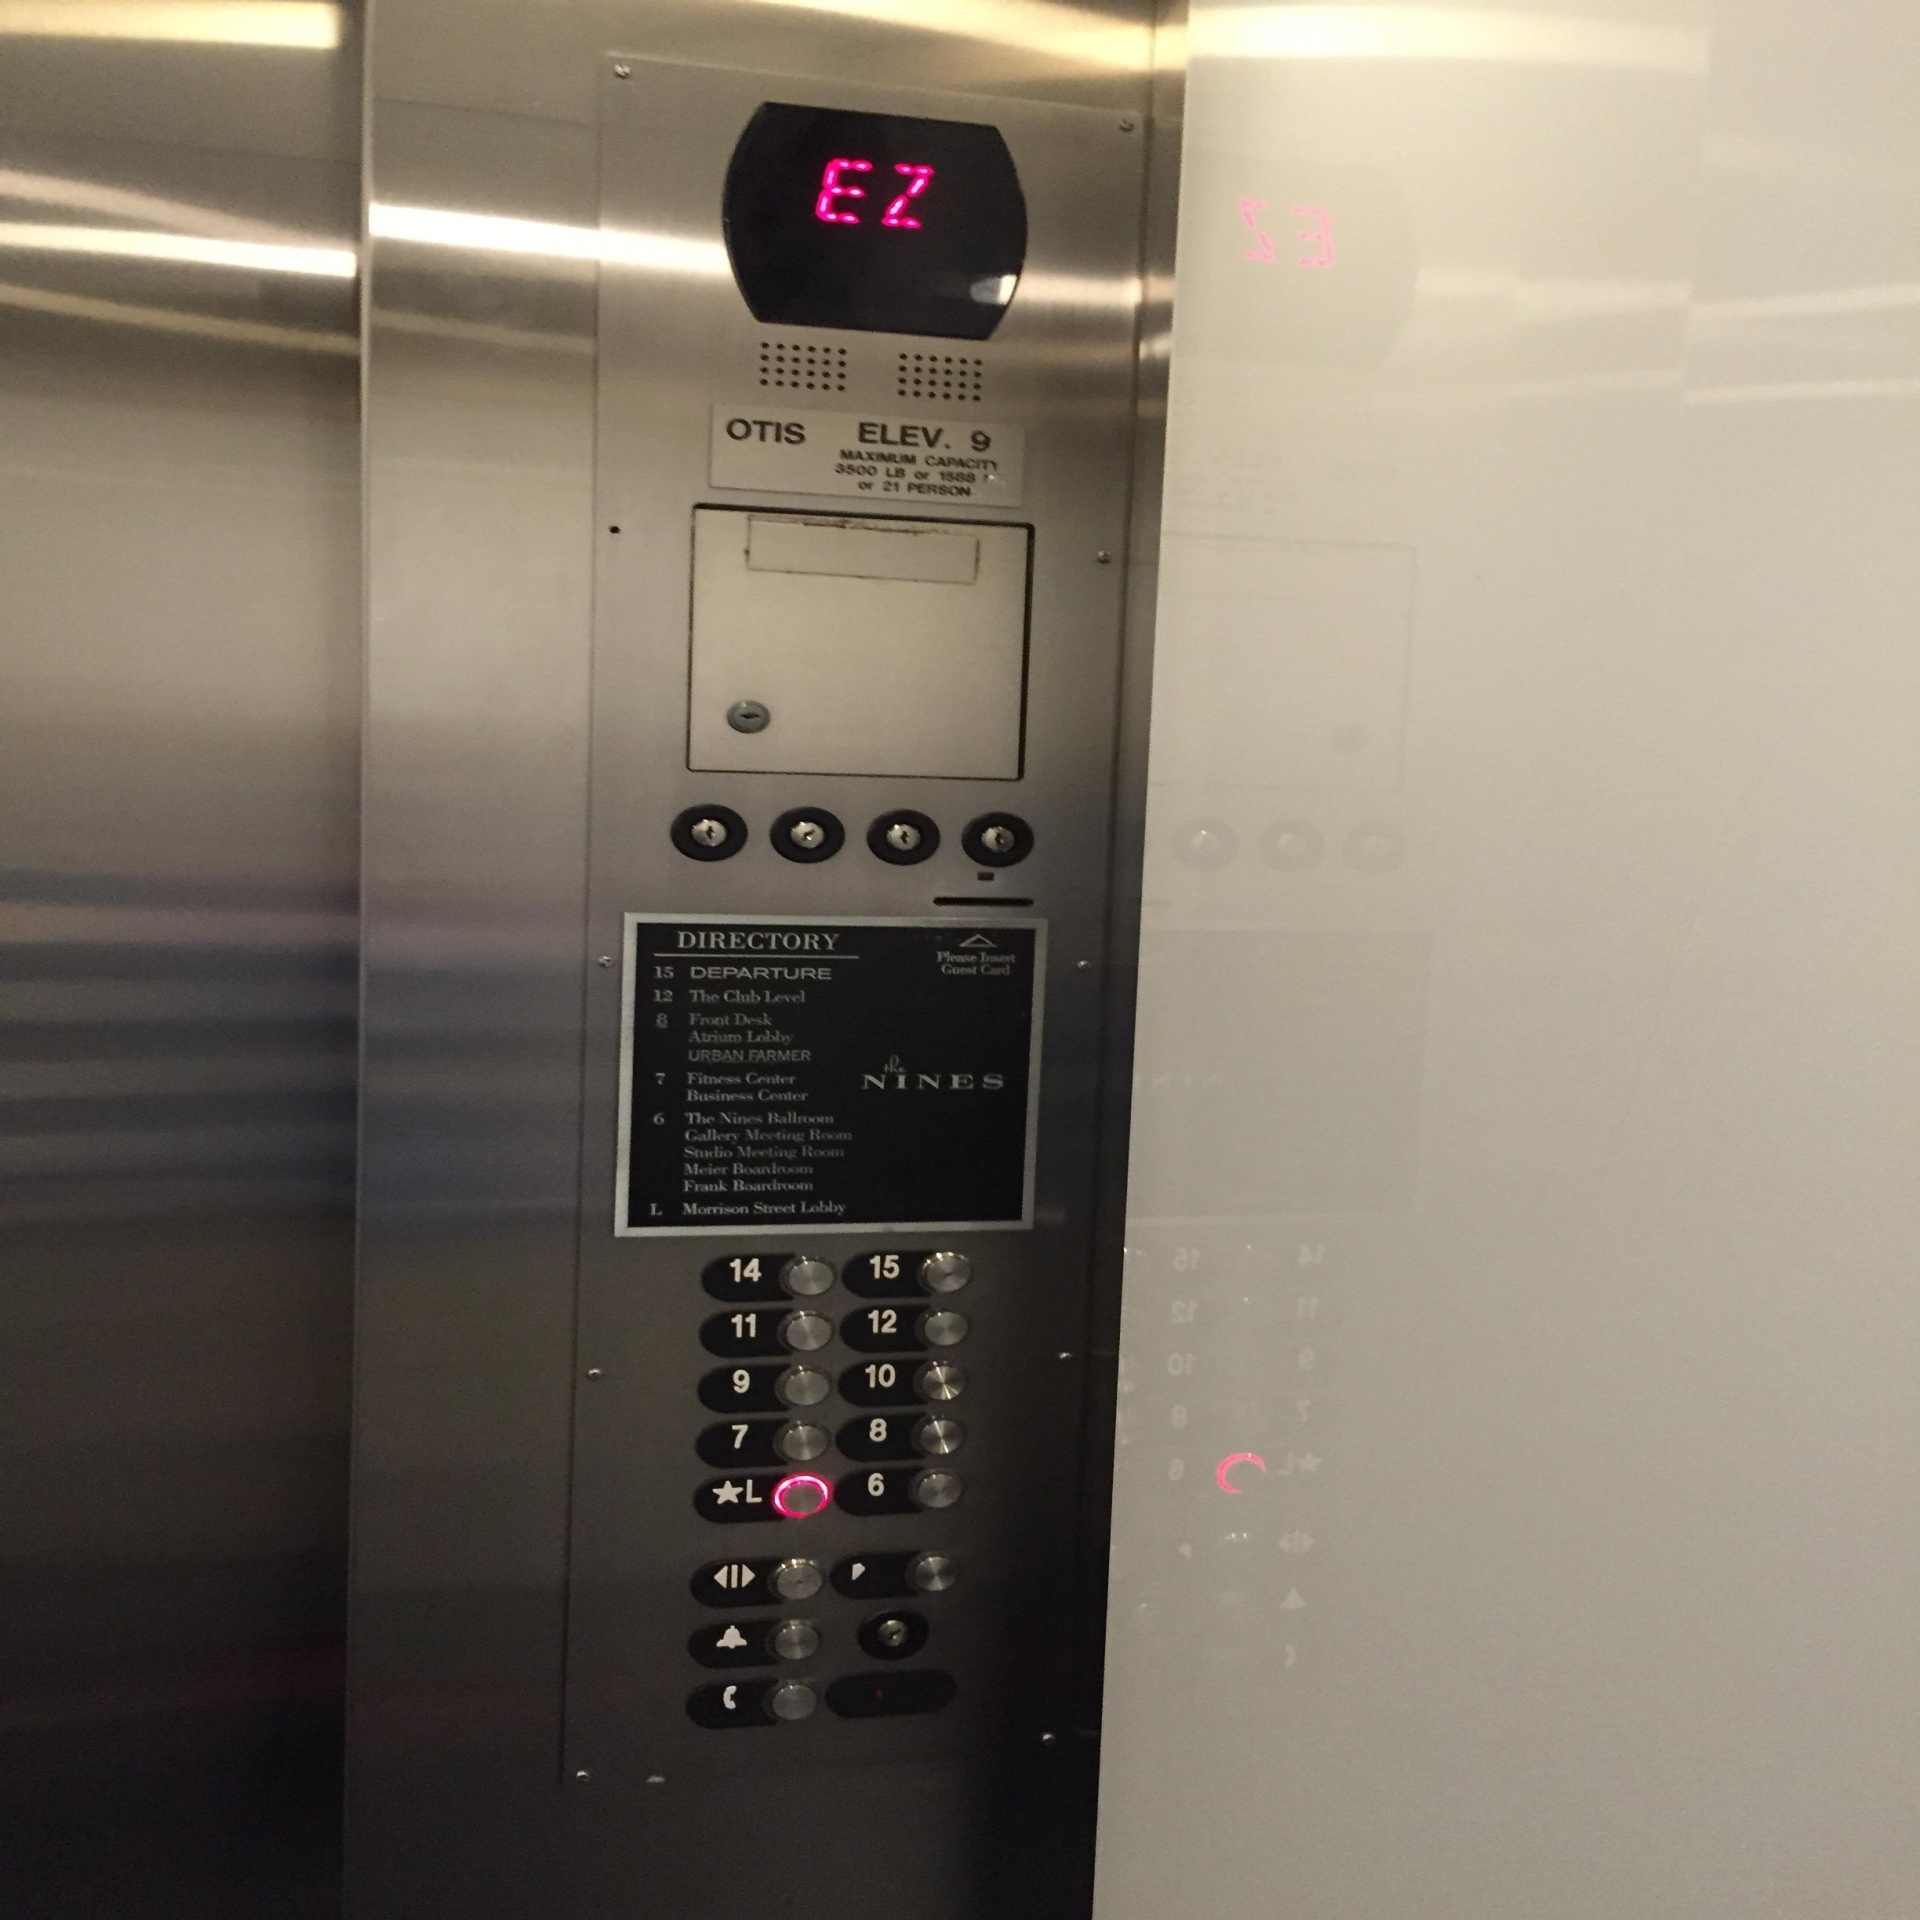10: (837, 1354, 976, 1407)
11: (693, 1303, 835, 1361)
12: (835, 1299, 978, 1354)
14: (696, 1250, 840, 1305)
15: (839, 1247, 976, 1299)
6: (833, 1461, 971, 1519)
7: (691, 1414, 833, 1470)
8: (835, 1410, 969, 1461)
9: (693, 1361, 835, 1414)
alarm: (686, 1616, 832, 1669)
blur: (832, 1547, 967, 1602)
call: (682, 1674, 823, 1732)
keyhole: (666, 798, 751, 865), (860, 804, 944, 870), (765, 802, 847, 869), (956, 805, 1037, 870), (855, 1605, 934, 1662), (723, 693, 774, 738)
led: (712, 93, 1037, 353)
open: (686, 1553, 828, 1609)
sL: (691, 1470, 833, 1524)
